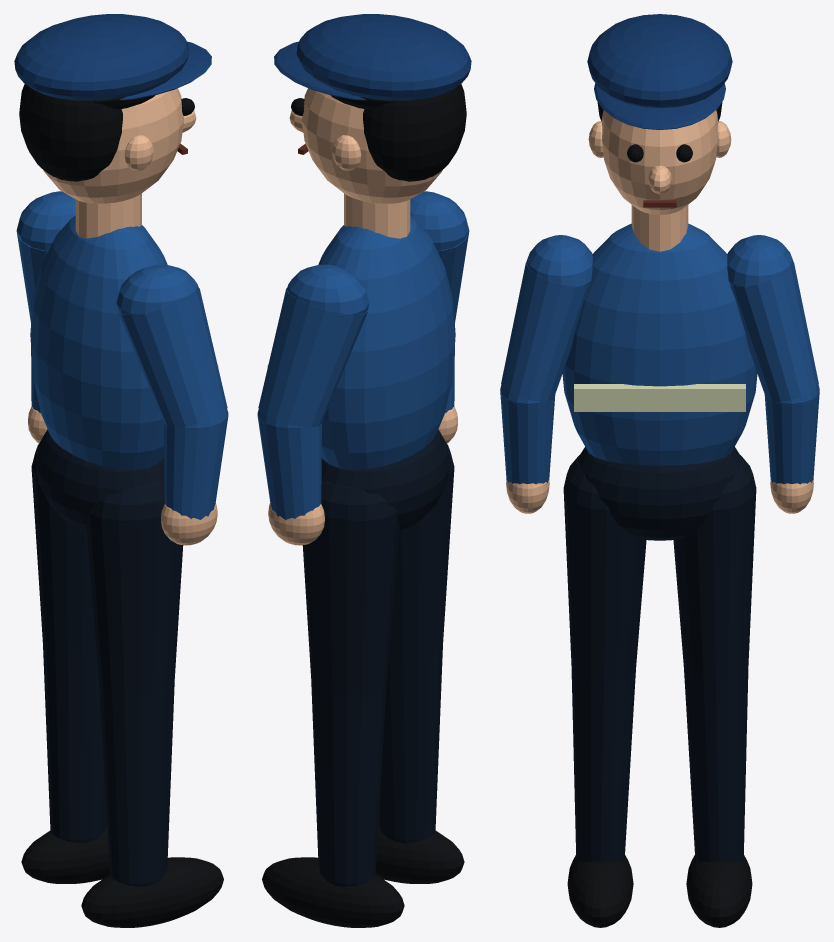
File: person_05.dae
3 renders of one model, left to right at view 1: azimuth 30°, elevation 25°; view 2: azimuth 150°, elevation 25°; view 3: azimuth 270°, elevation 25°, orthographic.
Parts seen in each view (by area): view 1: part0node, part2node, part1node, part5node, part4node; view 2: part0node, part2node, part1node, part5node, part4node; view 3: part2node, part0node, part5node, part4node, part1node, part3node.
Boxes of the visible parts, bbox=[...] form: part0node: bbox=[31, 429, 183, 887]; part2node: bbox=[16, 191, 228, 519]; part1node: bbox=[19, 84, 223, 927]; part5node: bbox=[14, 14, 211, 100]; part4node: bbox=[28, 88, 217, 545]; part0node: bbox=[302, 429, 454, 887]; part2node: bbox=[257, 191, 469, 519]; part1node: bbox=[262, 84, 466, 927]; part5node: bbox=[274, 14, 471, 100]; part4node: bbox=[268, 88, 457, 545]; part2node: bbox=[500, 223, 819, 484]; part0node: bbox=[563, 447, 756, 861]; part5node: bbox=[587, 14, 732, 129]; part4node: bbox=[506, 110, 813, 513]; part1node: bbox=[567, 102, 752, 927]; part3node: bbox=[574, 384, 745, 411].
Bounding box in the file's own units: 0.033 × 0.05 × 0.15.
